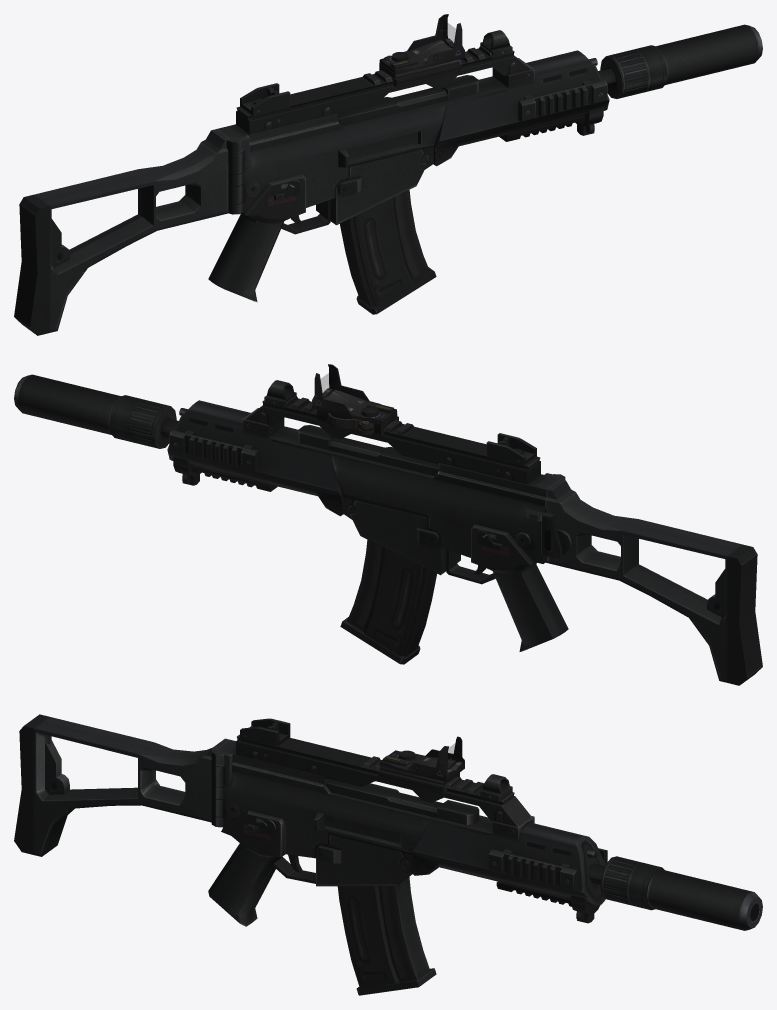
Rendered from g36c_assault_rifle.glb.
The picture shows the model from 3 angles, top to bottom: view 1: azimuth 30°, elevation 25°; view 2: azimuth 150°, elevation 25°; view 3: azimuth 330°, elevation 25°; orthographic projection.
Parts seen in each view (by area): view 1: Object_3, Object_4; view 2: Object_3, Object_4; view 3: Object_3, Object_4.
Boxes of the visible parts, left/top/right/bottom form: Object_3: left=14, top=24, right=762, bottom=335; Object_4: left=379, top=14, right=464, bottom=87; Object_3: left=14, top=374, right=762, bottom=685; Object_4: left=312, top=364, right=398, bottom=435; Object_3: left=14, top=714, right=762, bottom=995; Object_4: left=378, top=736, right=464, bottom=793.
Size of the model in its own units: 83.21 by 29.19 by 6.59.
3 materials, 3 textured.
